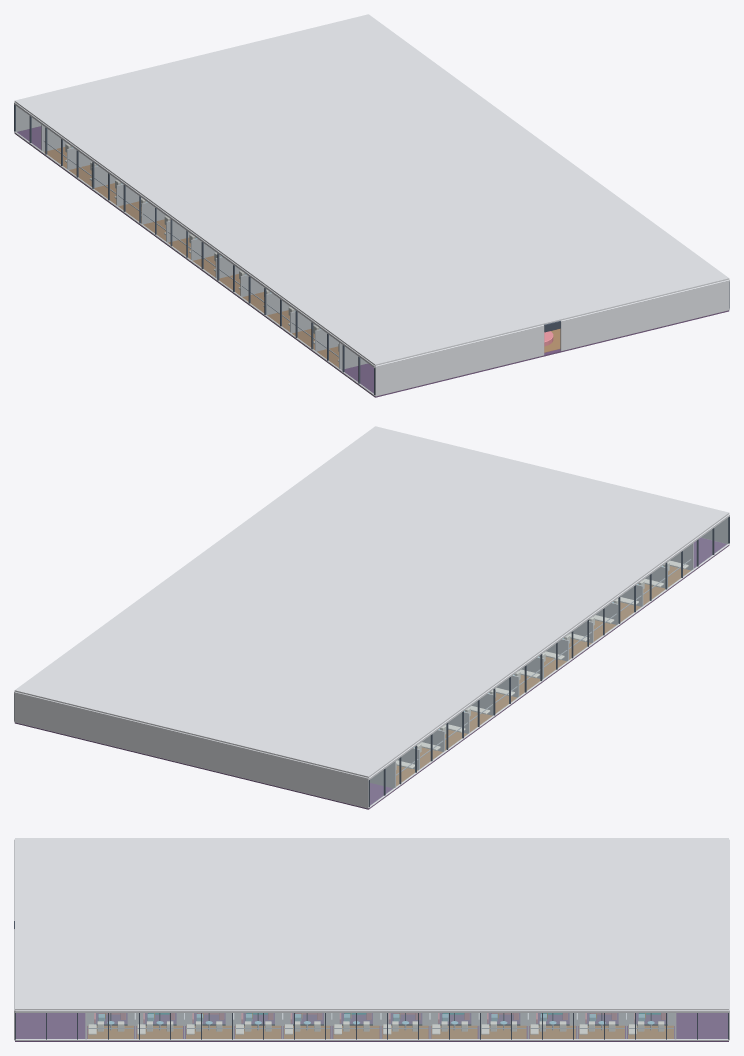
File: cabin-deck-four.glb
3 views of the same model, one above another, from view 1: azimuth 30°, elevation 25°; view 2: azimuth 150°, elevation 25°; view 3: azimuth 270°, elevation 25° (orthographic).
Parts seen in each view (by area): view 1: CM_BULKHEAD, CM_GLASS_CLEAR, CM_WOOD, CM_CARPET, CM_TRIM; view 2: CM_BULKHEAD, CM_GLASS_CLEAR, CM_WOOD, CM_CARPET, CM_TRIM, CM_CANVAS; view 3: CM_BULKHEAD, CM_GLASS_CLEAR, CM_CARPET, CM_WOOD, CM_CANVAS, CM_TRIM, CM_CORAL, CM_GLASS, CM_STEEL.
Part boxes in pixels (<box>): CM_BULKHEAD: <box>14,14,729,396</box>; CM_GLASS_CLEAR: <box>15,106,373,393</box>; CM_WOOD: <box>44,147,560,367</box>; CM_CARPET: <box>14,126,729,397</box>; CM_TRIM: <box>14,104,729,395</box>; CM_BULKHEAD: <box>14,426,729,808</box>; CM_GLASS_CLEAR: <box>370,518,728,805</box>; CM_WOOD: <box>396,566,690,786</box>; CM_CARPET: <box>14,538,729,809</box>; CM_TRIM: <box>14,516,729,807</box>; CM_CANVAS: <box>396,560,688,769</box>; CM_BULKHEAD: <box>14,838,729,1040</box>; CM_GLASS_CLEAR: <box>16,1013,727,1039</box>; CM_CARPET: <box>15,1013,728,1041</box>; CM_WOOD: <box>87,1025,673,1038</box>; CM_CANVAS: <box>88,1021,664,1034</box>; CM_TRIM: <box>14,921,728,1039</box>; CM_CORAL: <box>94,1013,665,1023</box>; CM_GLASS: <box>98,1014,654,1024</box>; CM_STEEL: <box>87,1024,673,1030</box>.
Bounding box in the file's own units: 34.14 × 3.04 × 60.14.
